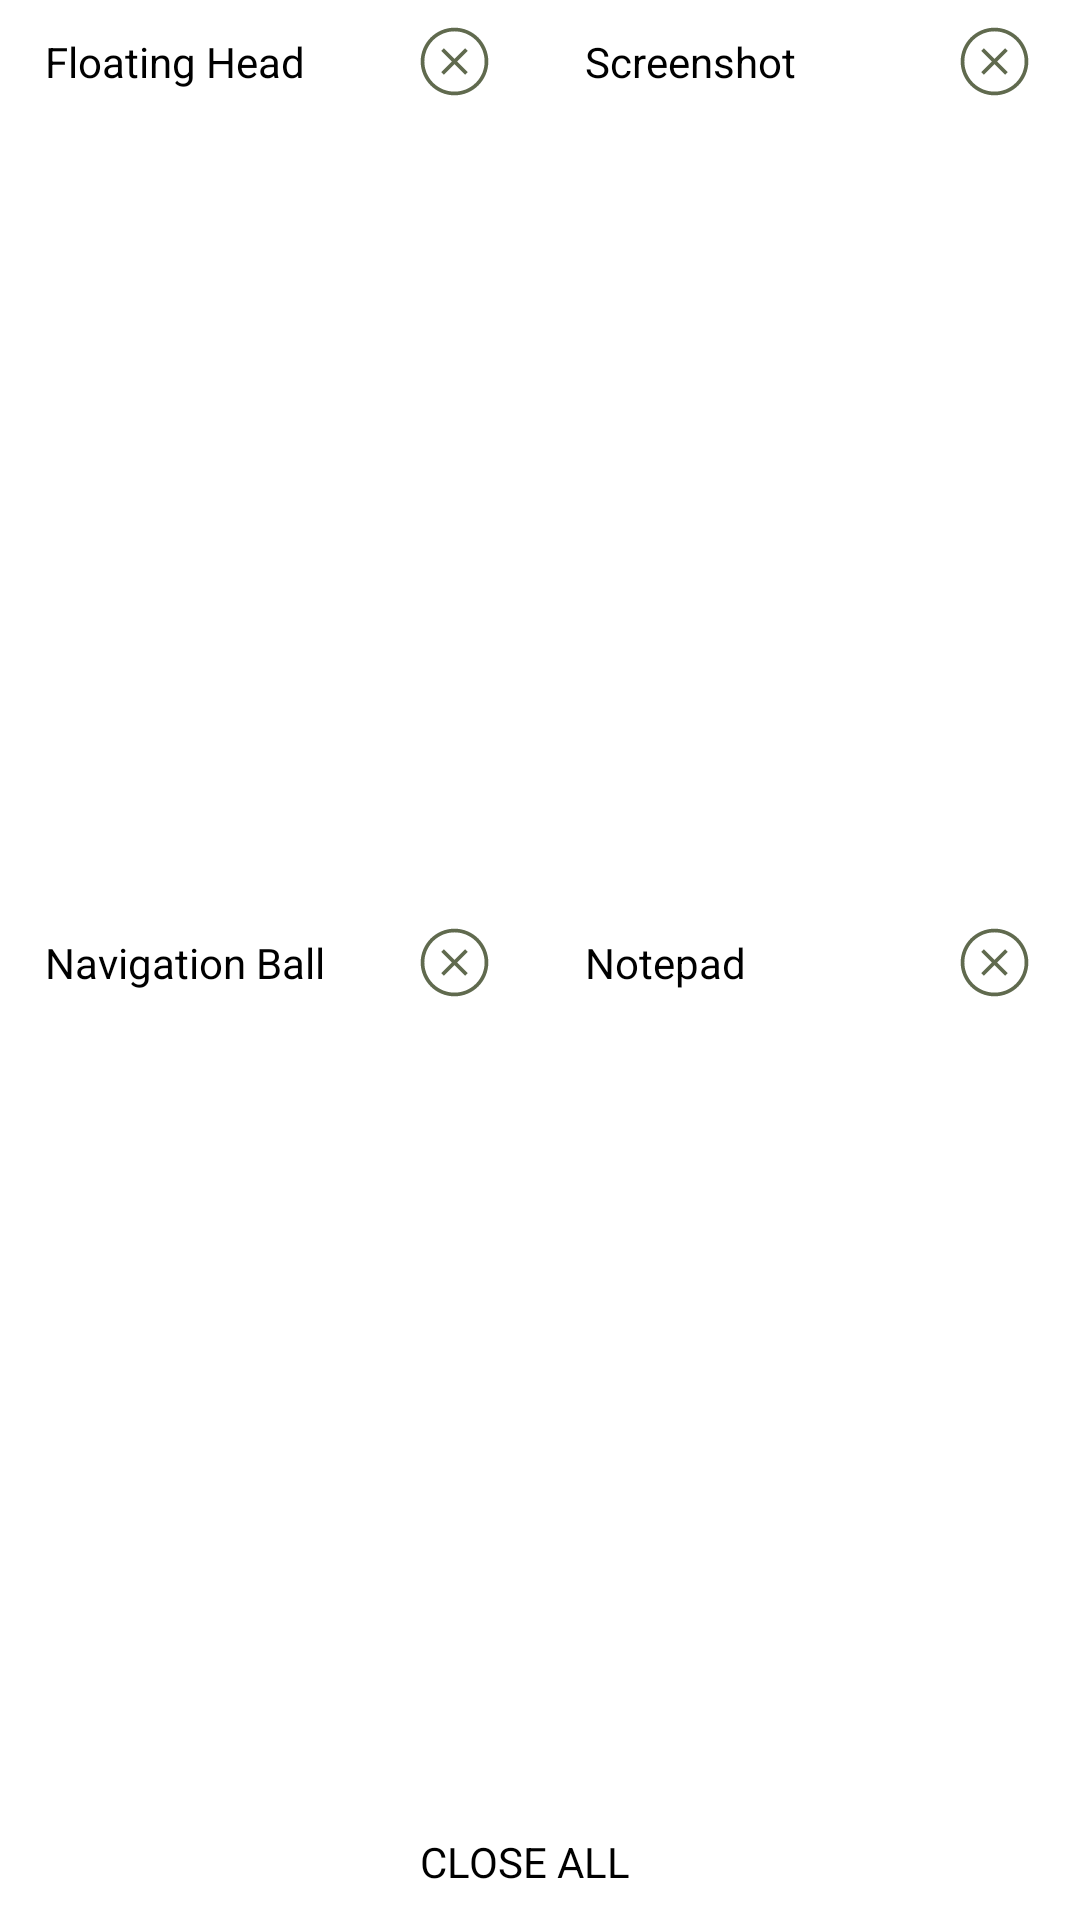

Screen size 1080 × 1920. Icon name, then its center in pixels as (x,y):
close: (454,61), (994,61), (454,962), (994,962)
